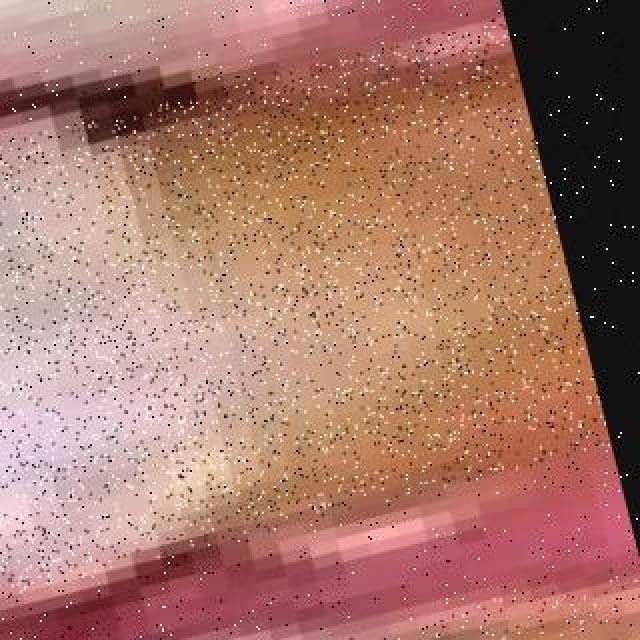cavities: (0, 92, 640, 588)
